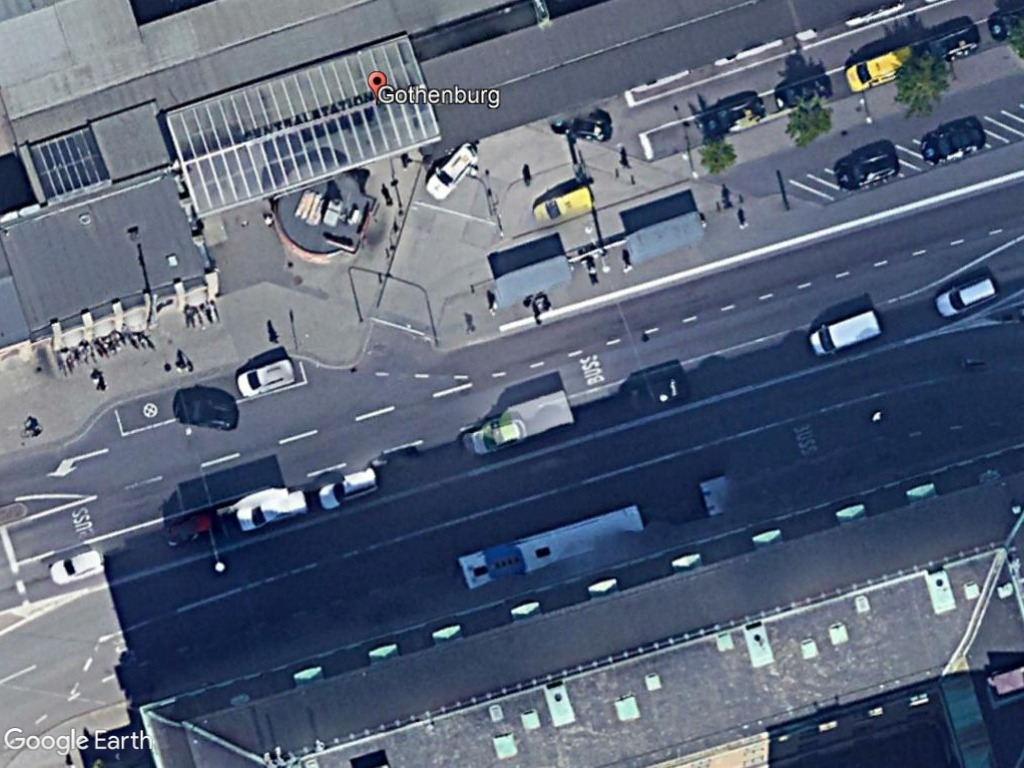bus: (447, 499, 650, 594)
car: (916, 116, 997, 171), (419, 138, 484, 202), (831, 141, 903, 192), (928, 272, 1001, 322), (229, 354, 302, 402), (168, 389, 244, 434), (527, 182, 598, 228)
van: (804, 304, 882, 362), (841, 41, 918, 95)
